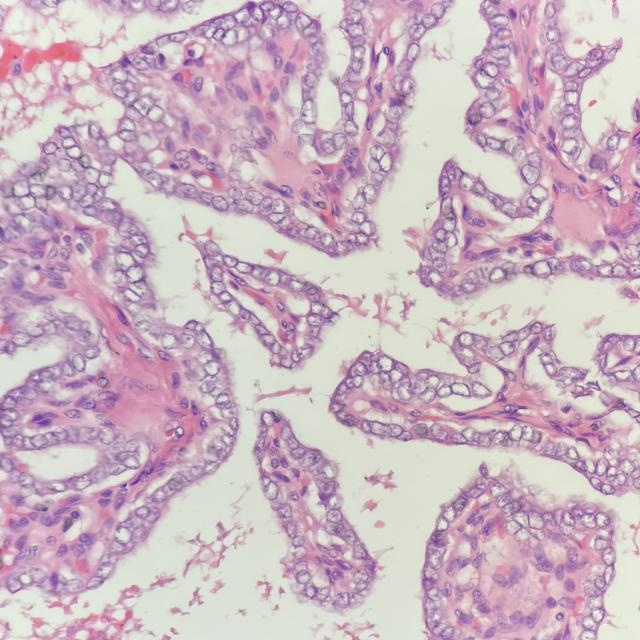TC: (369, 350, 404, 378), (514, 159, 546, 188), (372, 147, 399, 180), (528, 255, 558, 284), (194, 354, 225, 381), (483, 260, 510, 291), (255, 406, 284, 433), (126, 240, 157, 264), (211, 389, 239, 415), (571, 251, 597, 278), (196, 237, 225, 261), (609, 258, 634, 285), (258, 265, 286, 289), (421, 257, 451, 279), (265, 193, 293, 216), (484, 339, 507, 367), (329, 126, 351, 154), (448, 426, 476, 448), (358, 214, 383, 238), (172, 179, 200, 200), (436, 214, 464, 235), (77, 163, 100, 188), (457, 168, 476, 198), (195, 328, 215, 356), (115, 126, 143, 146), (210, 192, 232, 215), (126, 279, 154, 297), (432, 175, 452, 197), (72, 349, 85, 381), (450, 382, 471, 401)
